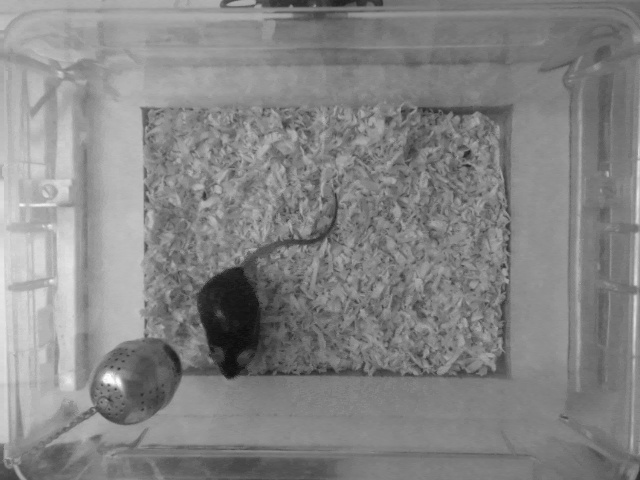mice: (198, 187, 340, 384)
